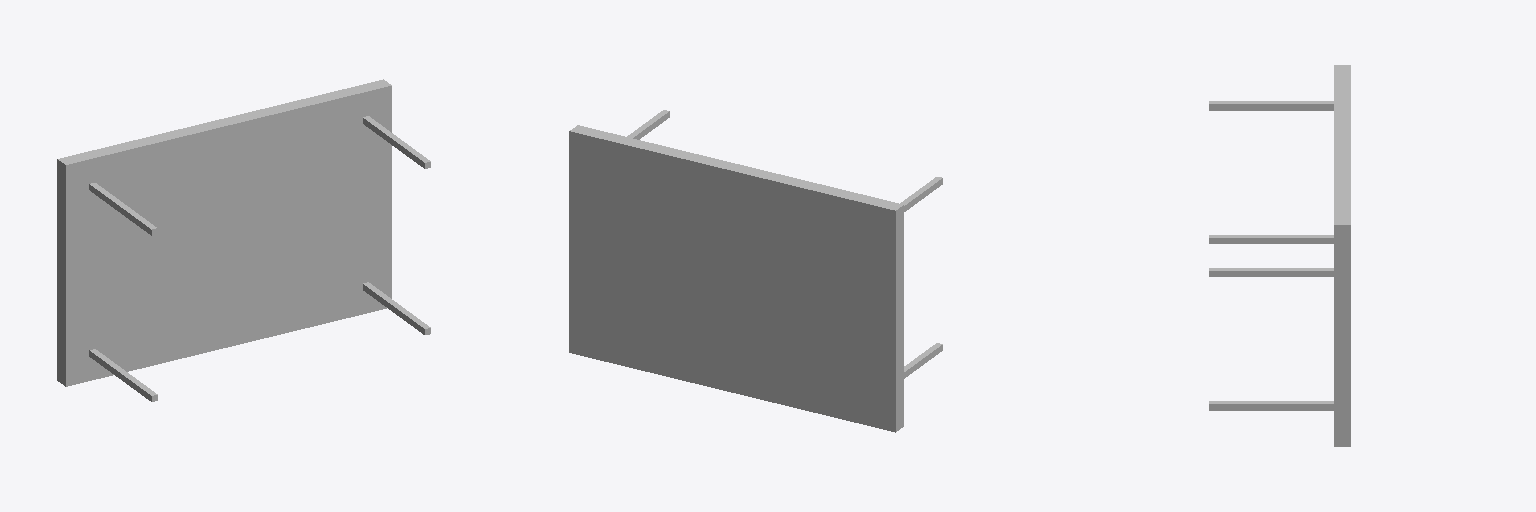
The model's file is random_table17.obj.
3 views of the same model, side by side, from view 1: azimuth 30°, elevation 25°; view 2: azimuth 150°, elevation 25°; view 3: azimuth 270°, elevation 25° (orthographic).
Visible parts, largest first — view 1: Table_Cube.280, TableLeg1_Cube.282, TableLeg3_Cube.284, TableLeg2_Cube.283, TableLeg0_Cube.281; view 2: Table_Cube.280; view 3: Table_Cube.280, TableLeg1_Cube.282, TableLeg2_Cube.283, TableLeg0_Cube.281, TableLeg3_Cube.284.
Part boxes in pixels (left/top/right/bottom): Table_Cube.280: left=57, top=79, right=391, bottom=386; TableLeg1_Cube.282: left=89, top=183, right=157, bottom=235; TableLeg3_Cube.284: left=89, top=349, right=157, bottom=401; TableLeg2_Cube.283: left=363, top=282, right=430, bottom=334; TableLeg0_Cube.281: left=363, top=116, right=430, bottom=168; Table_Cube.280: left=569, top=125, right=903, bottom=432; Table_Cube.280: left=1334, top=65, right=1350, bottom=446; TableLeg1_Cube.282: left=1209, top=101, right=1333, bottom=110; TableLeg2_Cube.283: left=1209, top=401, right=1333, bottom=410; TableLeg0_Cube.281: left=1209, top=235, right=1333, bottom=243; TableLeg3_Cube.284: left=1209, top=268, right=1333, bottom=276.
Size of the model in its own units: 11.13 by 7.23 by 4.18.